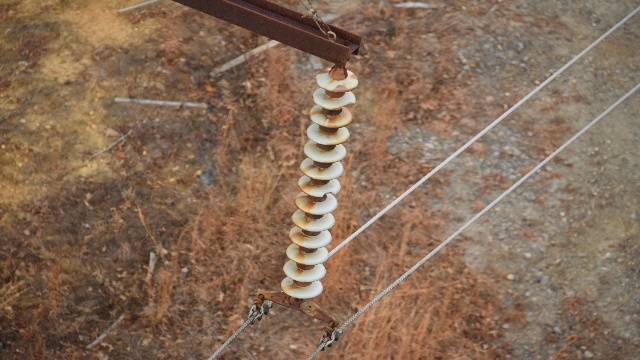broken_local: (336, 99, 357, 111), (317, 188, 339, 198)
insulator_unspecified: (281, 66, 358, 299)
pollution_flashover_local: (309, 106, 353, 128), (299, 161, 327, 180), (294, 195, 315, 212), (293, 215, 313, 230), (299, 179, 320, 193), (290, 232, 306, 246), (292, 251, 305, 266), (282, 284, 300, 293), (334, 84, 350, 93), (291, 267, 303, 279), (350, 71, 358, 82), (318, 69, 330, 75)
